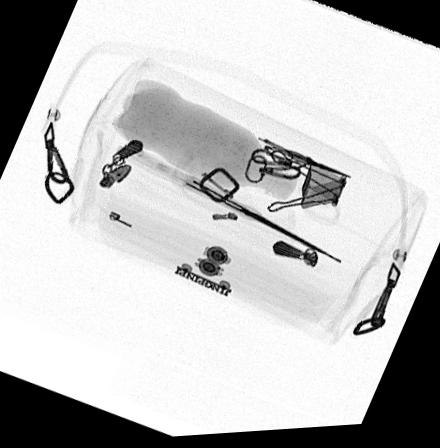Scissors: (169, 171, 342, 269)
